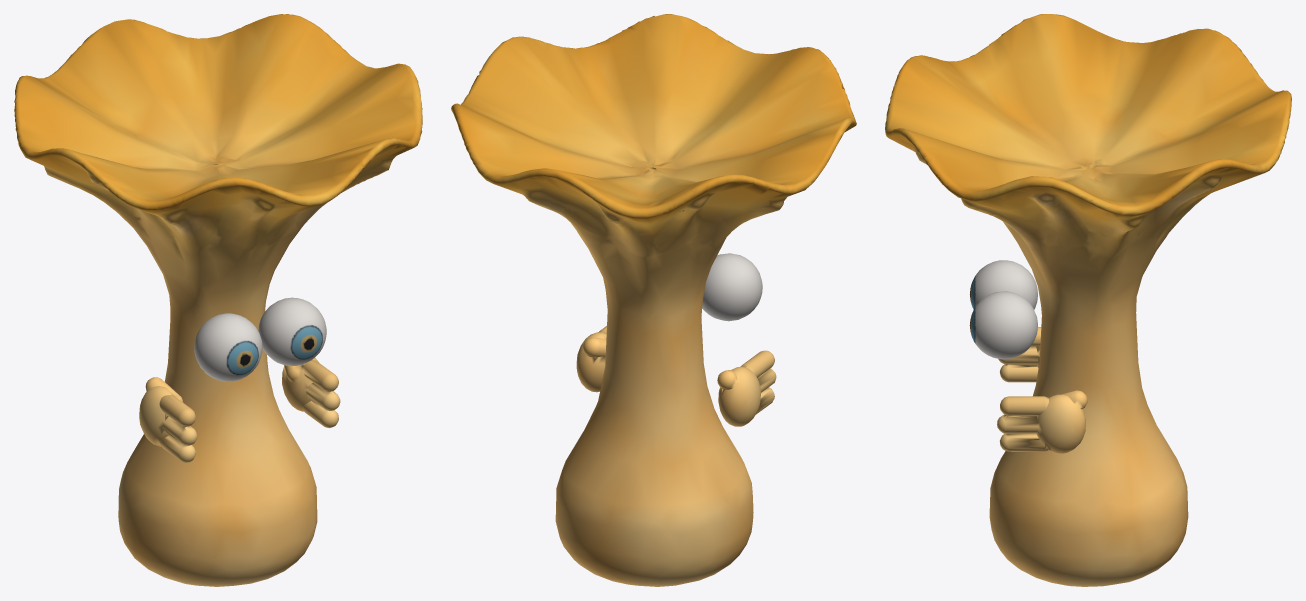
Rendered from chanterelle-scout_fast.glb.
3 renders of one model, left to right at view 1: azimuth 30°, elevation 25°; view 2: azimuth 150°, elevation 25°; view 3: azimuth 270°, elevation 25°, orthographic.
Parts seen in each view (by area): view 1: body, eye, hand; view 2: body, hand, eye; view 3: body, hand, eye.
Part boxes in pixels (x1,y1,x2,y2): body: (14, 14, 422, 586); eye: (194, 297, 326, 381); hand: (139, 358, 340, 462); body: (451, 14, 856, 586); hand: (576, 326, 776, 426); eye: (702, 253, 762, 321); body: (885, 14, 1291, 586); hand: (997, 327, 1087, 453); eye: (969, 260, 1037, 359).
Size of the model in its own units: 1.43 by 1.83 by 1.44.
